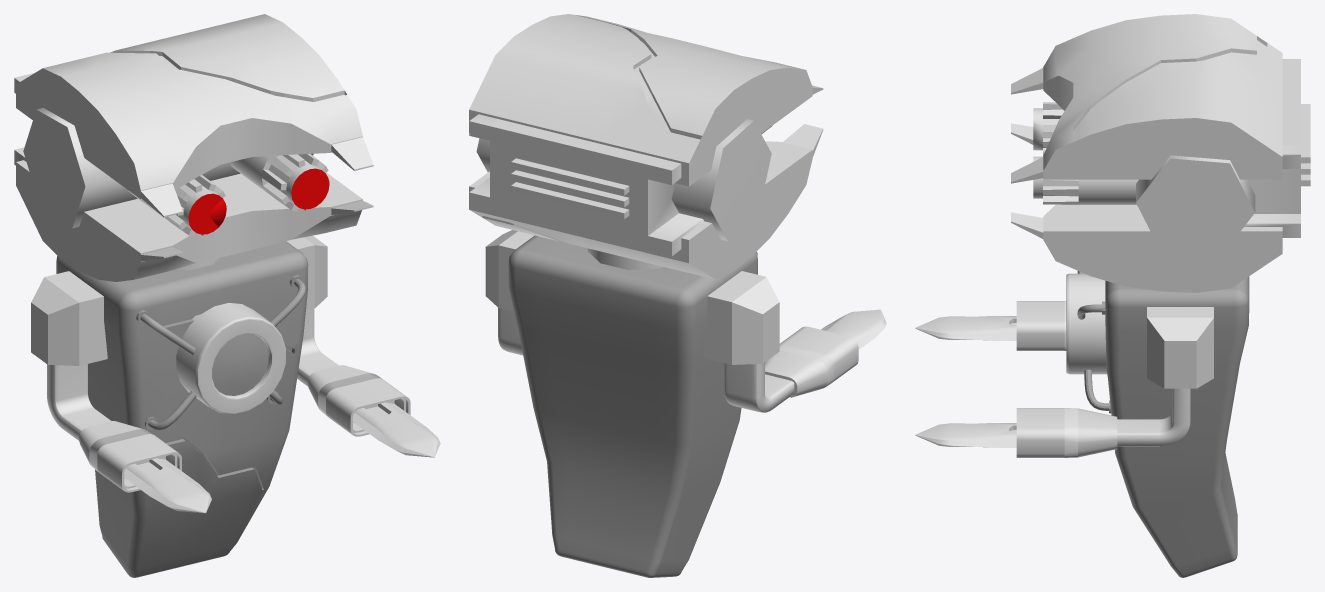
The model's file is MedEnemy.fbx.
The picture shows the model from 3 angles, left to right: view 1: azimuth 30°, elevation 25°; view 2: azimuth 150°, elevation 25°; view 3: azimuth 270°, elevation 25°; orthographic projection. The views are drawn at different scales.
Parts seen in each view (by area): view 1: polySurface382; view 2: polySurface382; view 3: polySurface382.
Part boxes in pixels (x1=…): polySurface382: x1=14, y1=14, x2=440, y2=577; polySurface382: x1=469, y1=14, x2=886, y2=577; polySurface382: x1=915, y1=14, x2=1310, y2=577.
Size of the model in its own units: 0.7876 by 1.33 by 0.9689.
